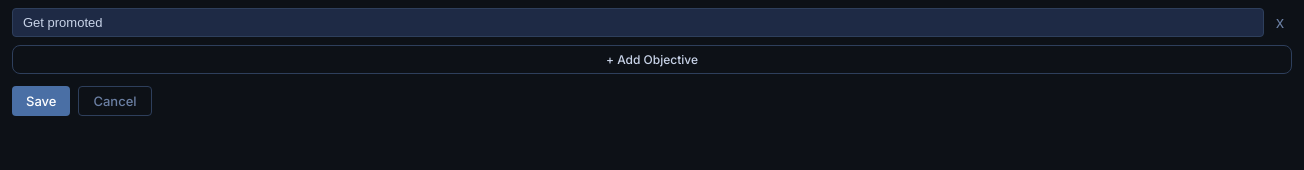
SectionEditor › objectives › can add a new objective
This screenshot has width=1304, height=170.
Click the button "+ Add Objective" at [652, 60], box [12, 45, 1292, 74]
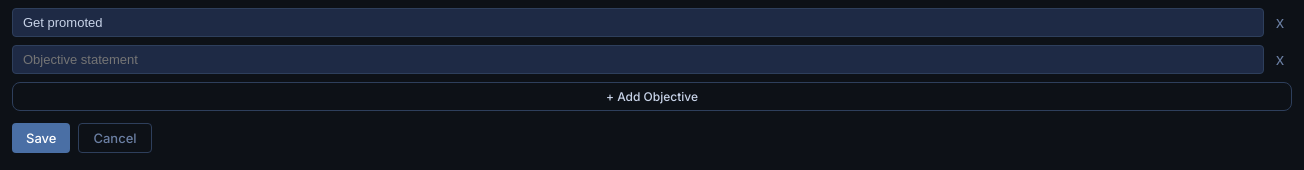
Result: the number of fields with placeholder "Objective statement" is 2 at [12, 8, 1264, 37]; [12, 45, 1264, 74]
